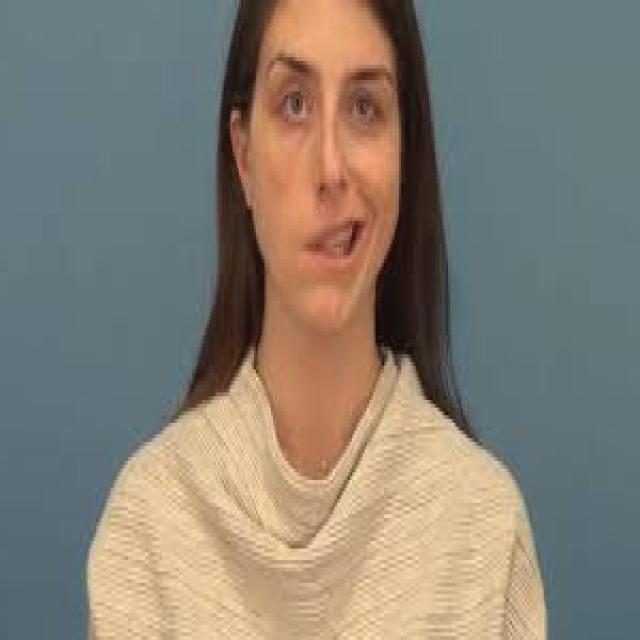stroke_face: (236, 5, 405, 323)
